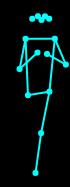tree: (12, 10, 70, 177)
